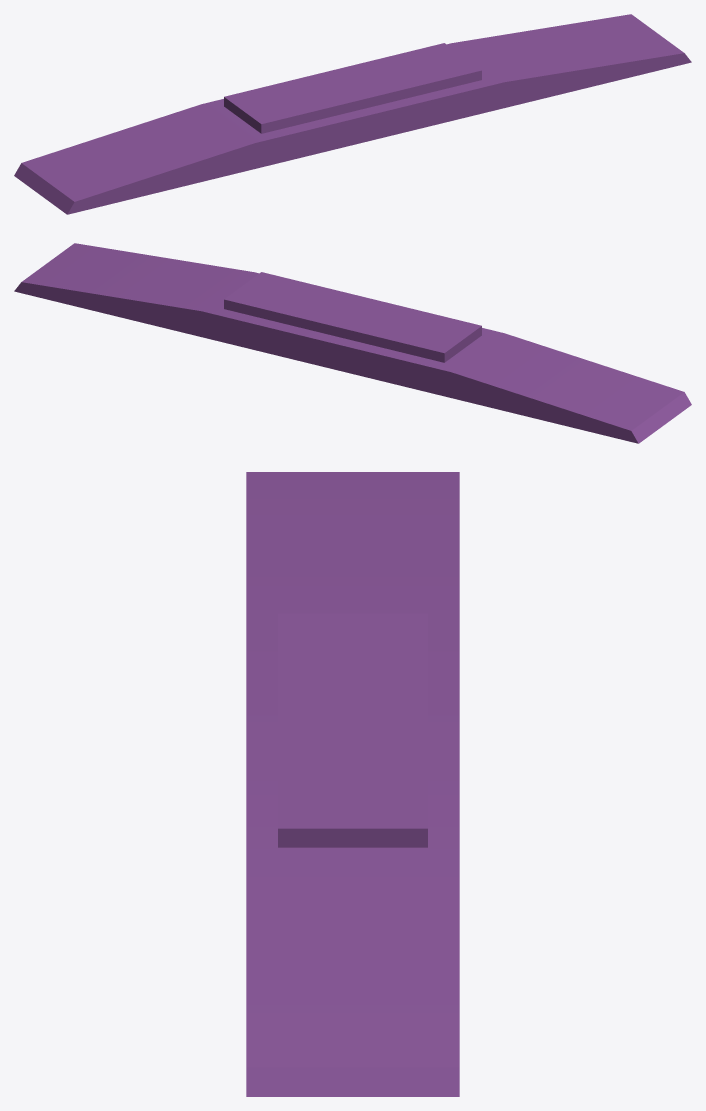
Rendered from Itr_Obj_Monitor_LCD_Base_06.FBX.
3 views of the same model, one above another, from view 1: azimuth 30°, elevation 25°; view 2: azimuth 150°, elevation 25°; view 3: azimuth 270°, elevation 25° (orthographic). The views are drawn at different scales.
Visible parts, largest first — view 1: Itr_Obj_Monitor_LCD_Base_06; view 2: Itr_Obj_Monitor_LCD_Base_06; view 3: Itr_Obj_Monitor_LCD_Base_06.
Part boxes in pixels (bbox=[...]): Itr_Obj_Monitor_LCD_Base_06: bbox=[14, 14, 691, 214]; Itr_Obj_Monitor_LCD_Base_06: bbox=[14, 243, 691, 443]; Itr_Obj_Monitor_LCD_Base_06: bbox=[246, 472, 459, 1096].
Bounding box in the file's own units: 38.49 × 2.09 × 5.68.
